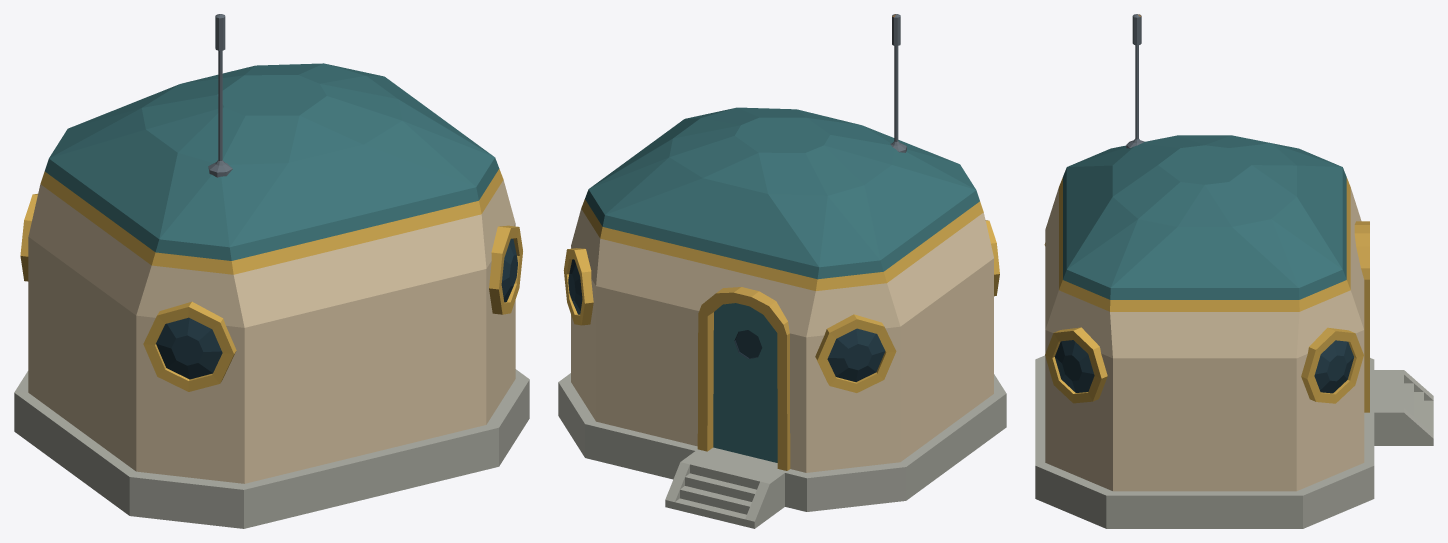
3 renders of one model, left to right at view 1: azimuth 30°, elevation 25°; view 2: azimuth 150°, elevation 25°; view 3: azimuth 270°, elevation 25°, orthographic. The views are drawn at different scales.
Parts seen in each view (by area): view 1: house_01; view 2: house_01; view 3: house_01.
Boxes of the visible parts, x1,y1,x2,y2 form: house_01: [14, 14, 529, 528]; house_01: [558, 14, 1006, 528]; house_01: [1035, 14, 1433, 528].
Size of the model in its own units: 4.93 by 5.44 by 4.99.
1 material, 1 textured.
